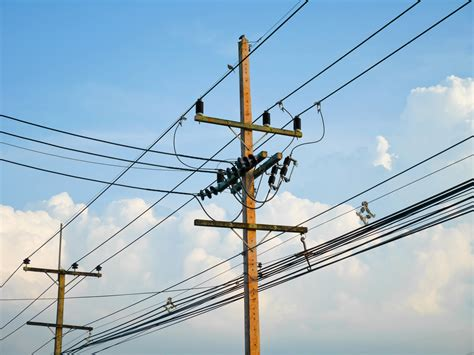pole: (178, 26, 334, 351)
